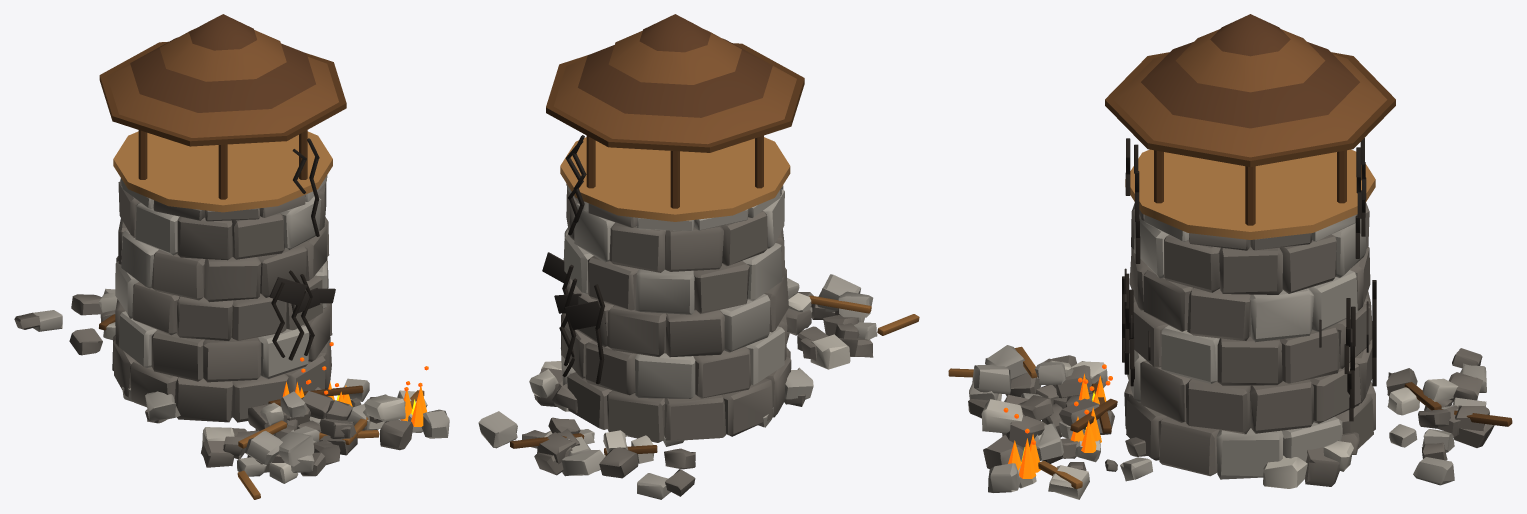
Rendered from wieza_etap3.glb.
3 renders of one model, left to right at view 1: azimuth 30°, elevation 25°; view 2: azimuth 150°, elevation 25°; view 3: azimuth 270°, elevation 25°, orthographic. The views are drawn at different scales.
Parts seen in each view (by area): view 1: wieza_etap3; view 2: wieza_etap3; view 3: wieza_etap3.
Boxes of the visible parts, x1,y1,x2,y2 form: wieza_etap3: [14, 14, 449, 499]; wieza_etap3: [478, 14, 919, 499]; wieza_etap3: [948, 14, 1512, 499].
Bounding box in the file's own units: 5.58 × 8.38 × 10.15.
